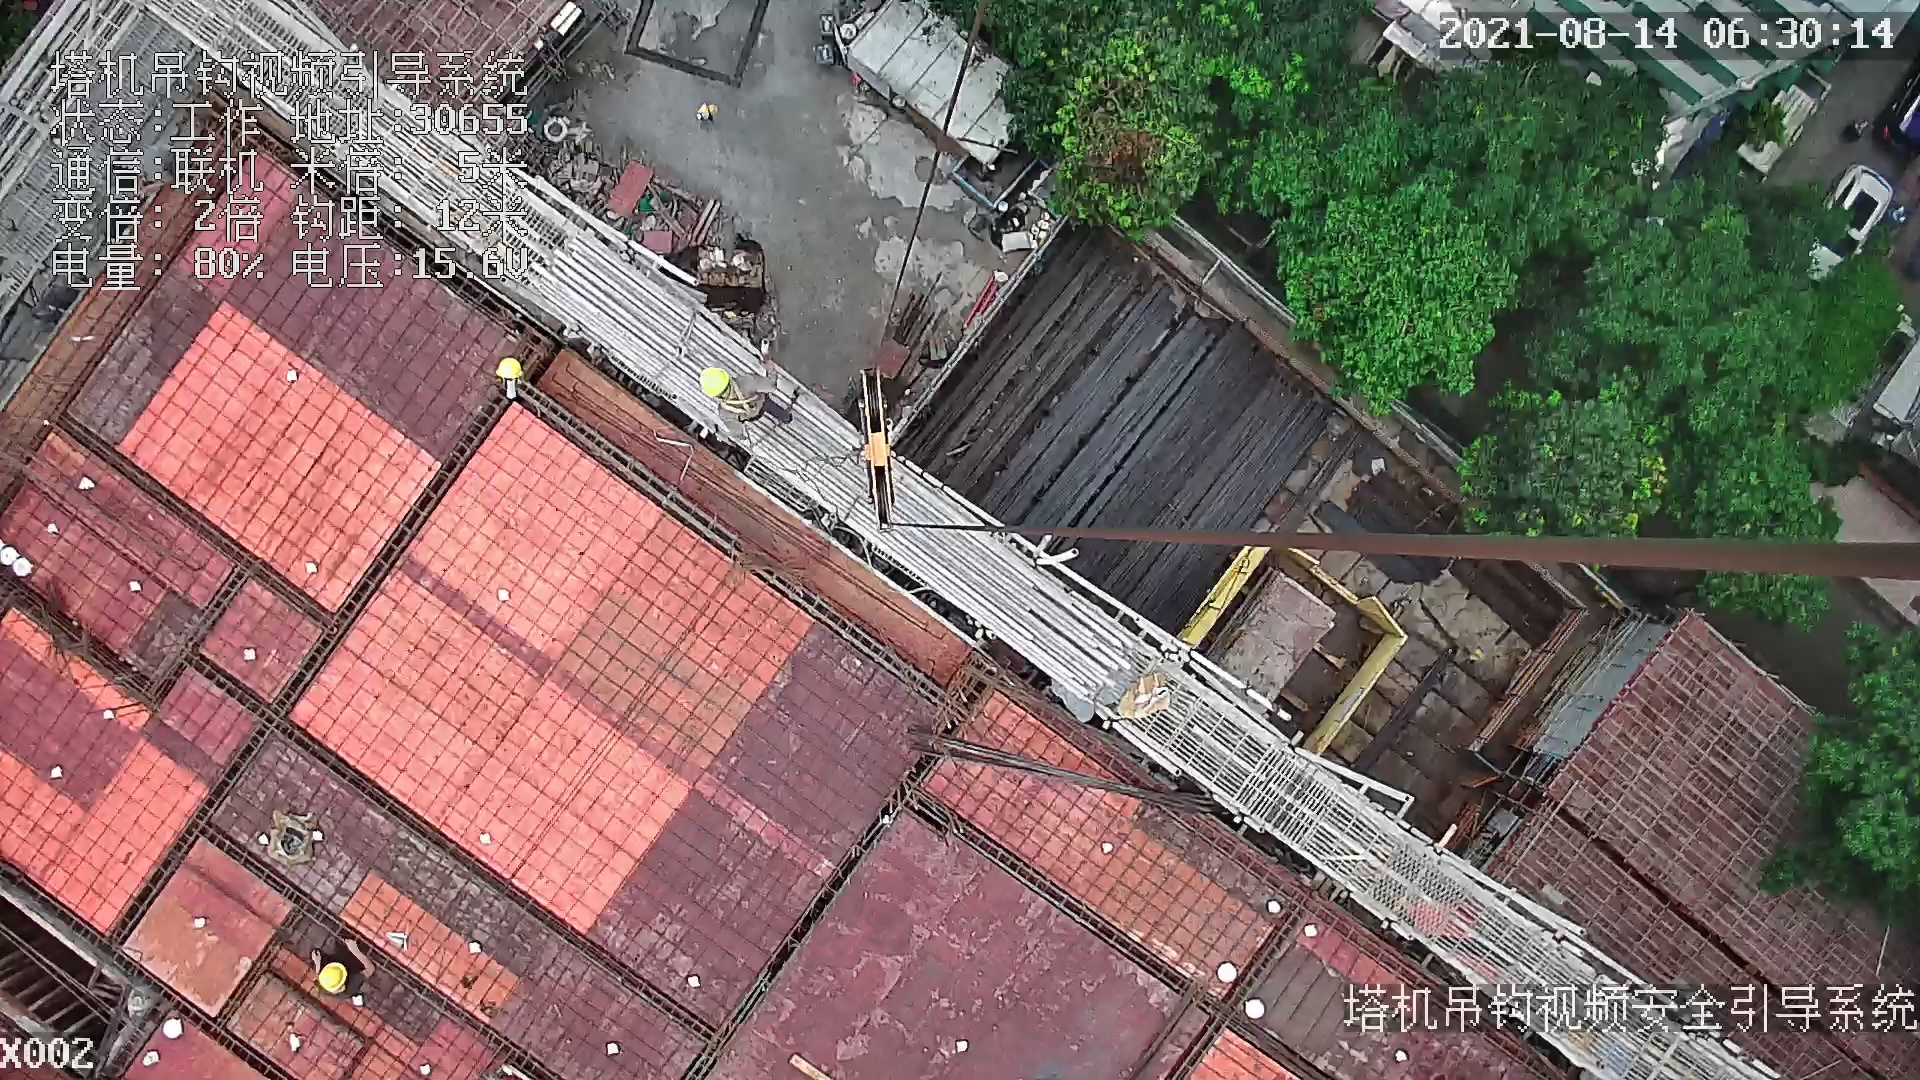helmet: (699, 368, 730, 398), (319, 963, 347, 994), (491, 355, 526, 379)
hook: (856, 367, 904, 536)
person: (692, 359, 808, 430), (294, 932, 379, 1008)
rebar: (919, 218, 1313, 622)
